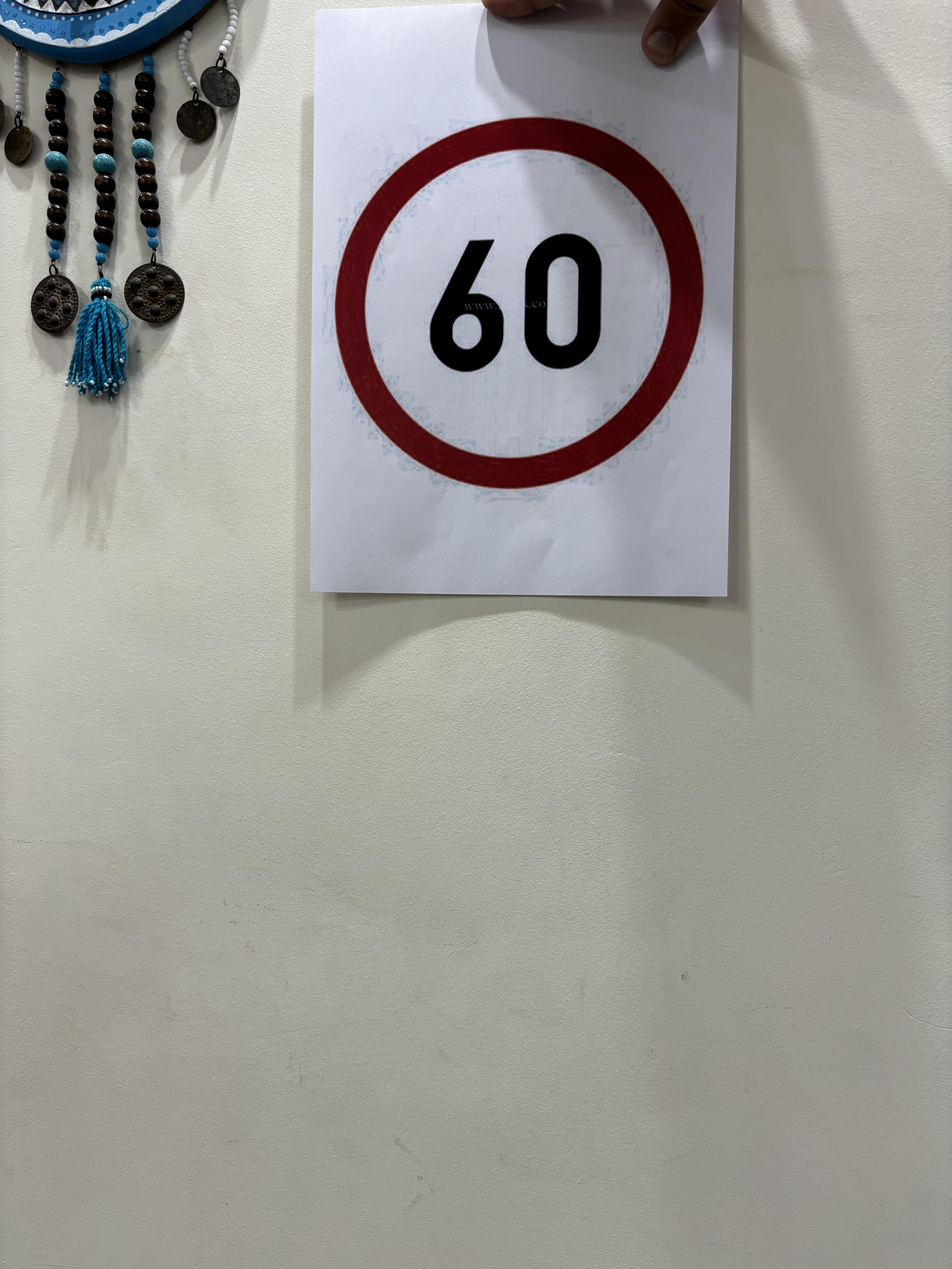60-Speed: (332, 109, 715, 500)
